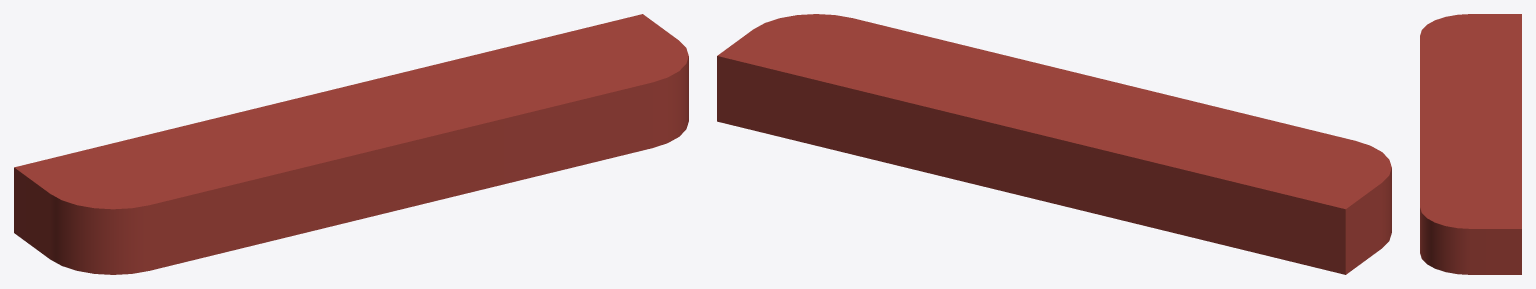
The model's file is road_star.fbx.
The picture shows the model from 3 angles, left to right: view 1: azimuth 30°, elevation 25°; view 2: azimuth 150°, elevation 25°; view 3: azimuth 270°, elevation 25°; orthographic projection. The views are drawn at different scales.
Parts seen in each view (by area): view 1: road_star; view 2: road_star; view 3: road_star.
Boxes of the visible parts, x1,y1,x2,y2 form: road_star: (14,14,688,274); road_star: (717,14,1391,274); road_star: (1420,14,1521,274).
Size of the model in its own units: 10 by 0.9985 by 2.
